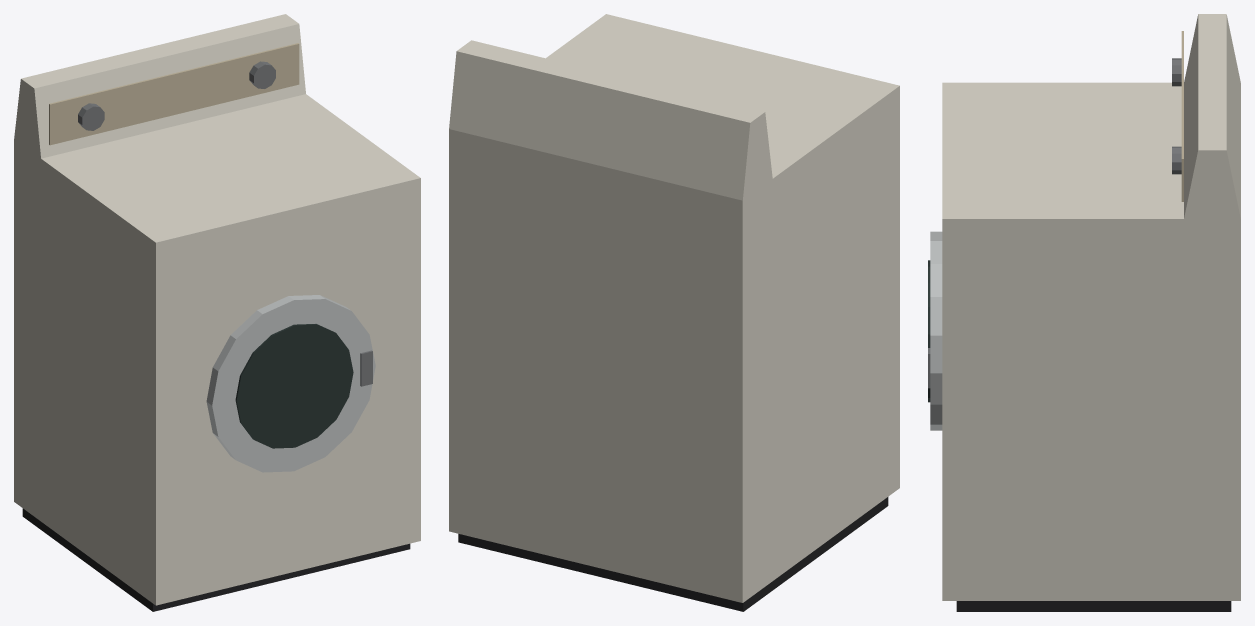
Rendered from dryer.glb.
3 renders of one model, left to right at view 1: azimuth 30°, elevation 25°; view 2: azimuth 150°, elevation 25°; view 3: azimuth 270°, elevation 25°, orthographic. The views are drawn at different scales.
Parts seen in each view (by area): view 1: dryer; view 2: dryer; view 3: dryer.
Boxes of the visible parts, x1,y1,x2,y2 form: dryer: (14, 14, 420, 611); dryer: (449, 14, 899, 611); dryer: (928, 14, 1240, 611).
Size of the model in its own units: 0.68 by 1.08 by 0.66.
